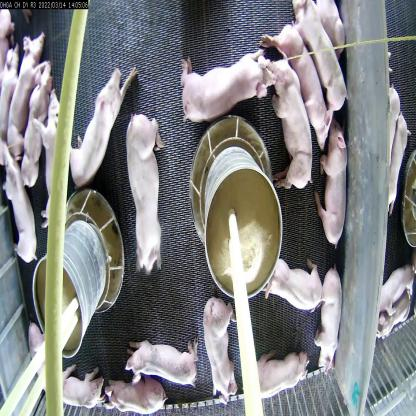Pig: (64, 65, 142, 195), (266, 14, 333, 145), (126, 117, 165, 268), (176, 56, 265, 122), (265, 62, 312, 180), (302, 0, 348, 107), (0, 156, 42, 266), (122, 336, 200, 393), (22, 62, 56, 192), (9, 30, 40, 162), (37, 89, 66, 227), (200, 297, 236, 401), (242, 348, 310, 400), (267, 261, 322, 324), (101, 370, 178, 415), (320, 128, 348, 238), (320, 261, 344, 377), (52, 365, 106, 413)
